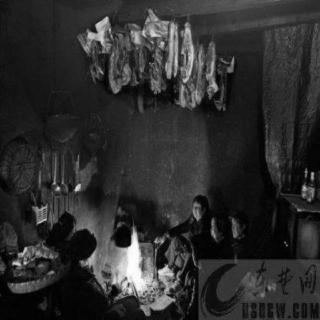other: (70, 190, 93, 238)
